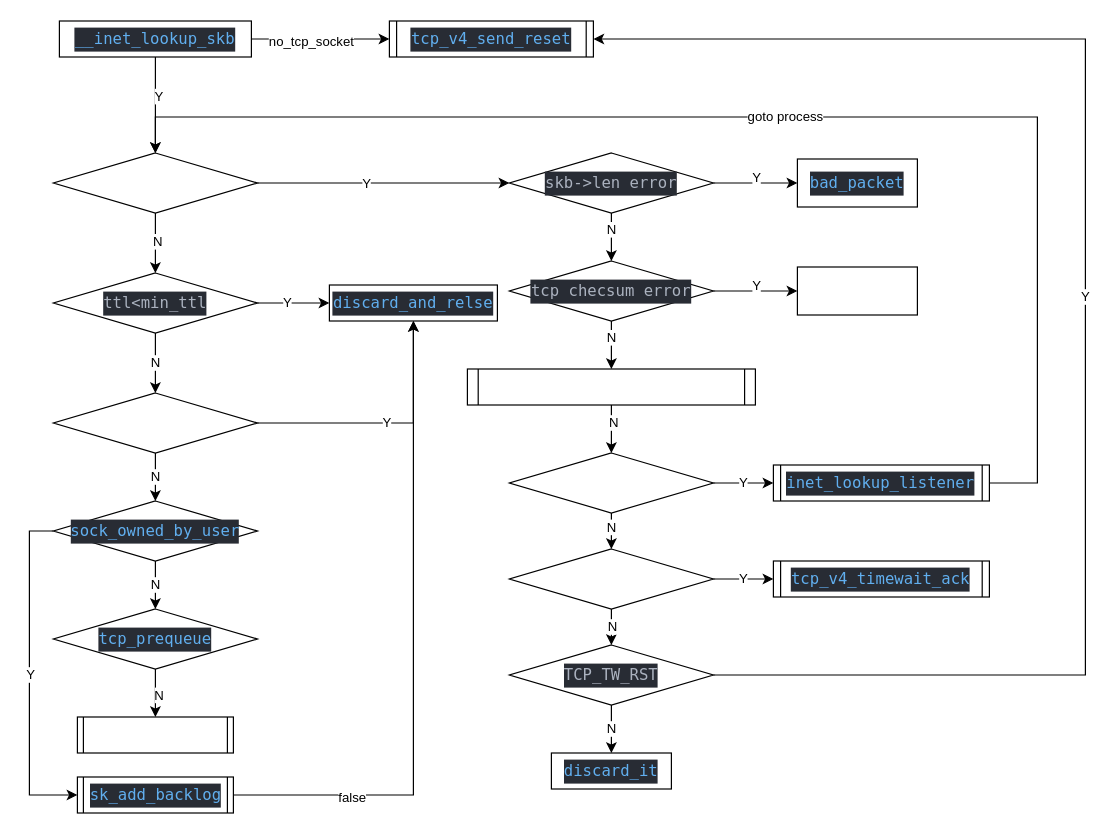
The diagram is 1116 pixels wide and 834 high, and some of its shapes have lost their labels. The box of each missing label's shape, as (x1, y1, x2, y2) in pixels:
csum_error: (796, 266, 917, 315)
tcp_filter(sk,skb): (52, 392, 257, 453)
TCP_TIME_WAIT: (52, 152, 257, 213)
tcp_timewait_state_process: (466, 368, 755, 405)
TCP_TW_ACK: (508, 548, 713, 609)
TCP_TW_SYN: (508, 452, 713, 513)
tcp_v4_do_rcv: (76, 716, 233, 753)
